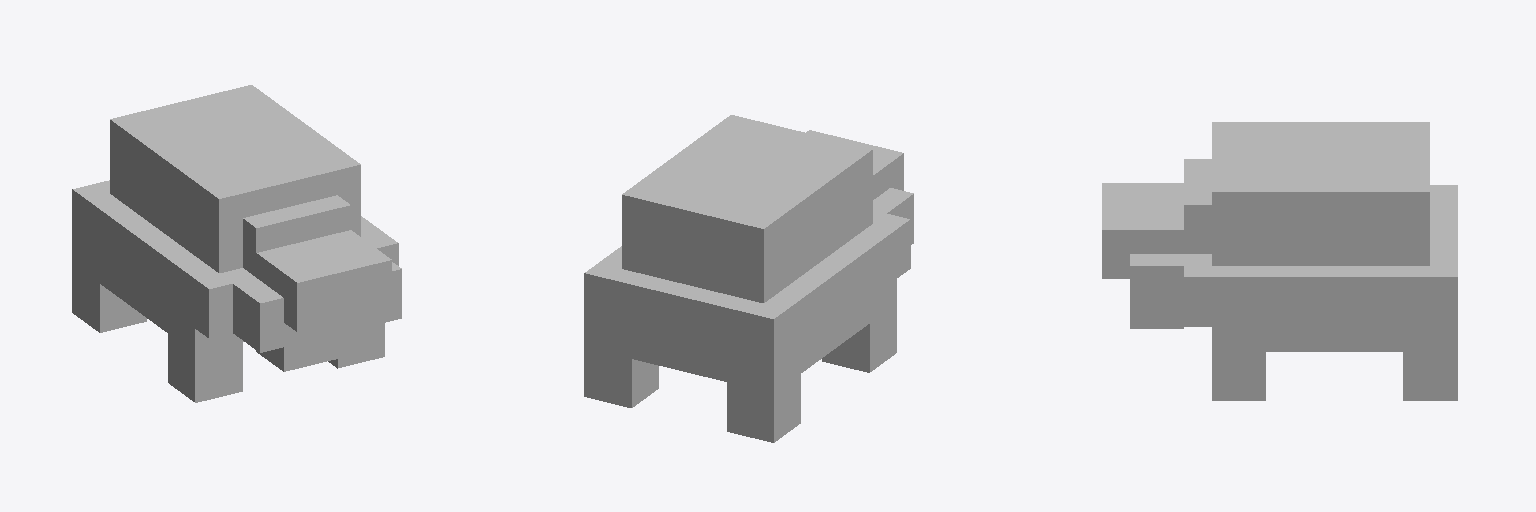
The model's file is funkyturtle.obj.
3 views of the same model, side by side, from view 1: azimuth 30°, elevation 25°; view 2: azimuth 150°, elevation 25°; view 3: azimuth 270°, elevation 25° (orthographic).
Parts seen in each view (by area): view 1: funkyturtle; view 2: funkyturtle; view 3: funkyturtle.
Part boxes in pixels (left/top/right/bottom): funkyturtle: left=72, top=85, right=401, bottom=402; funkyturtle: left=584, top=115, right=913, bottom=442; funkyturtle: left=1102, top=122, right=1457, bottom=400.
Bounding box in the file's own units: 8 × 8 × 13.